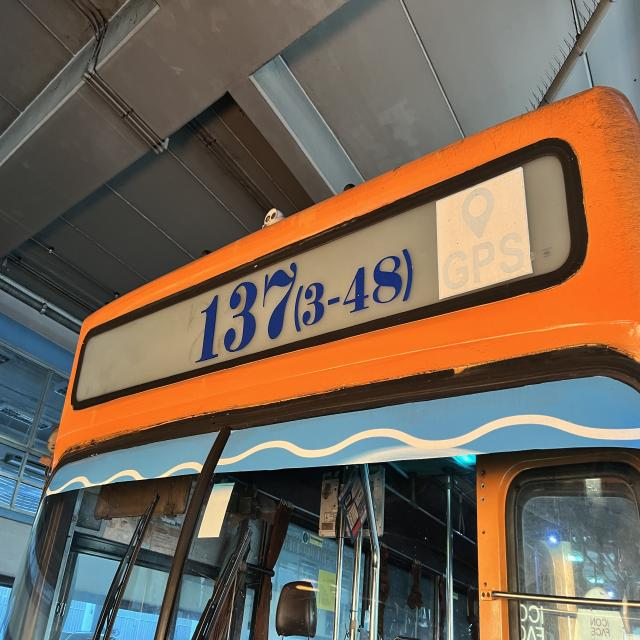BMTA-bus: (3, 86, 640, 640)
Bus-Line-Number: (185, 203, 432, 372)
